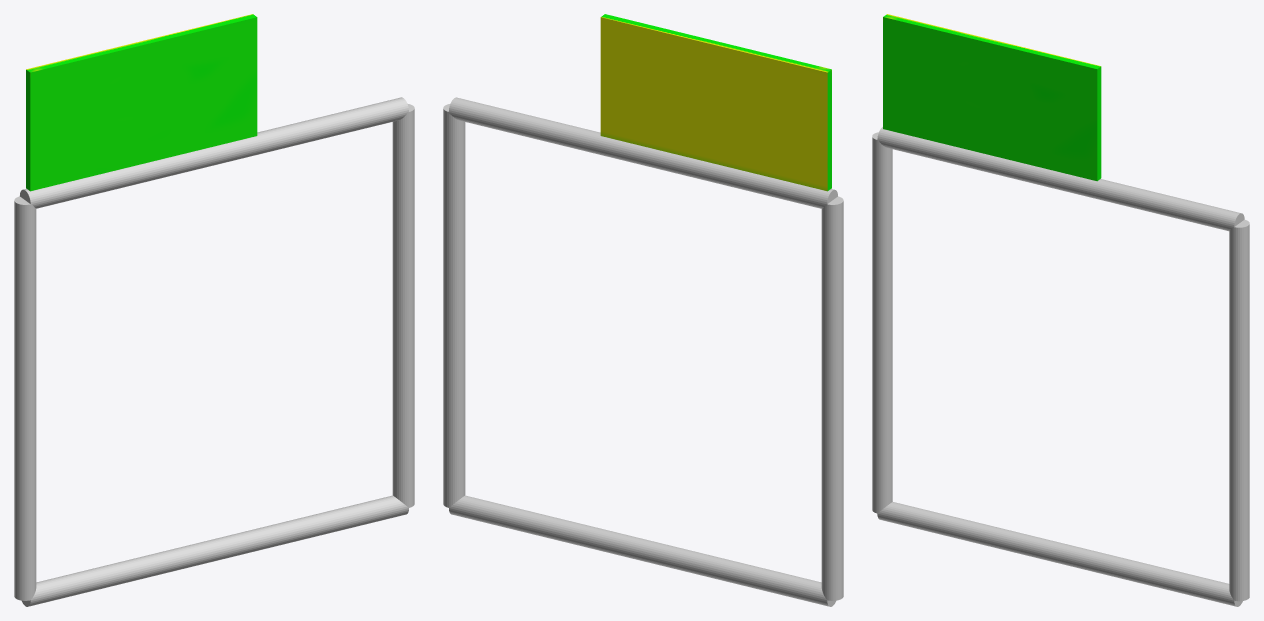
The model's file is frame.gltf.
3 renders of one model, left to right at view 1: azimuth 30°, elevation 25°; view 2: azimuth 150°, elevation 25°; view 3: azimuth 330°, elevation 25°, orthographic. The views are drawn at different scales.
Visible parts, largest first — view 1: Cube, Cylinder.001, Cylinder.002, Cylinder.003, Cylinder; view 2: Cube, Cylinder.001, Cylinder.002, Cylinder.003, Cylinder; view 3: Cube, Cylinder.002, Cylinder.001, Cylinder.003, Cylinder.
Boxes of the visible parts, x1=… form: Cube: x1=26, y1=14, x2=257, y2=191; Cylinder.001: x1=14, y1=196, x2=36, y2=600; Cylinder.002: x1=392, y1=103, x2=414, y2=507; Cylinder.003: x1=22, y1=495, x2=408, y2=606; Cylinder: x1=20, y1=97, x2=408, y2=208; Cube: x1=600, y1=14, x2=831, y2=191; Cylinder.001: x1=821, y1=196, x2=843, y2=600; Cylinder.002: x1=443, y1=104, x2=465, y2=507; Cylinder.003: x1=449, y1=495, x2=835, y2=606; Cylinder: x1=448, y1=97, x2=837, y2=208; Cube: x1=883, y1=14, x2=1101, y2=181; Cylinder.002: x1=1229, y1=219, x2=1249, y2=601; Cylinder.001: x1=872, y1=132, x2=892, y2=513; Cylinder.003: x1=877, y1=502, x2=1242, y2=606; Cylinder: x1=877, y1=127, x2=1244, y2=231.
Bounding box in the file's own units: 10.5 × 13.5 × 0.5027.
Materials: 2 (1 with a texture image).
